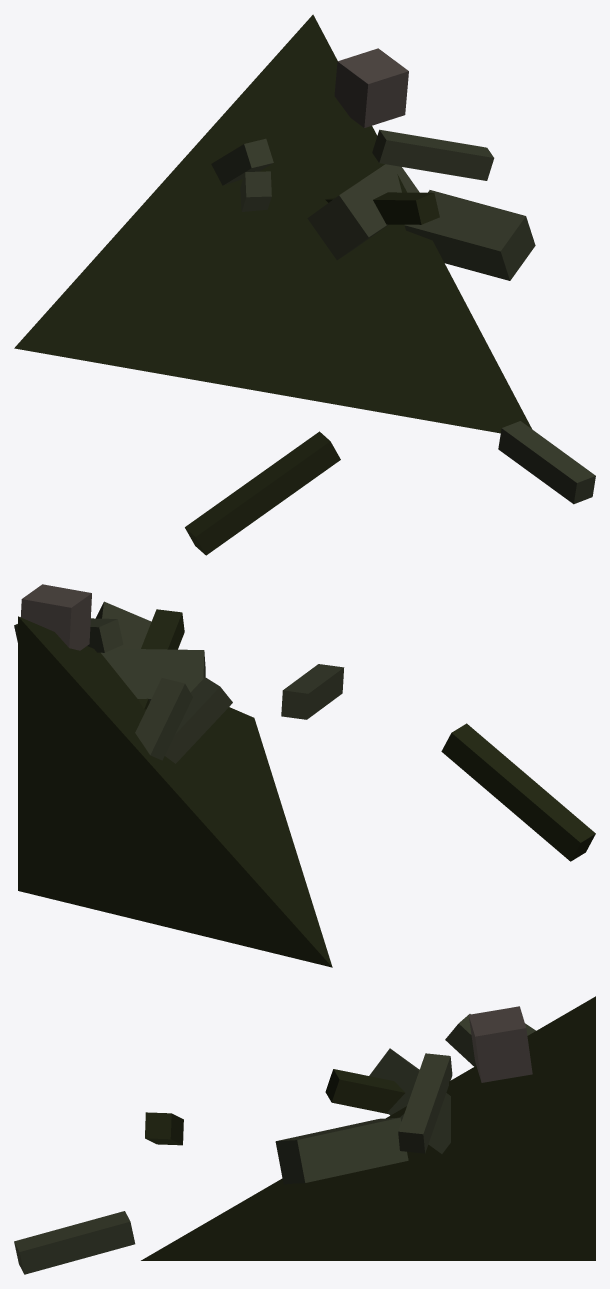
The model's file is SM_PilaZombi_RemateIzq_Altura2_s0_LOD1.fbx.
The picture shows the model from 3 angles, top to bottom: view 1: azimuth 30°, elevation 25°; view 2: azimuth 150°, elevation 25°; view 3: azimuth 270°, elevation 25°; orthographic projection. The views are drawn at different scales.
Parts seen in each view (by area): view 1: SM_pila_zombis_v1_LOD1; view 2: SM_pila_zombis_v1_LOD1; view 3: SM_pila_zombis_v1_LOD1.
Part boxes in pixels (bbox=[...]): SM_pila_zombis_v1_LOD1: bbox=[14, 14, 595, 555]; SM_pila_zombis_v1_LOD1: bbox=[14, 584, 595, 967]; SM_pila_zombis_v1_LOD1: bbox=[14, 996, 595, 1274].
Bounding box in the file's own units: 2.29 × 1.57 × 2.69.
